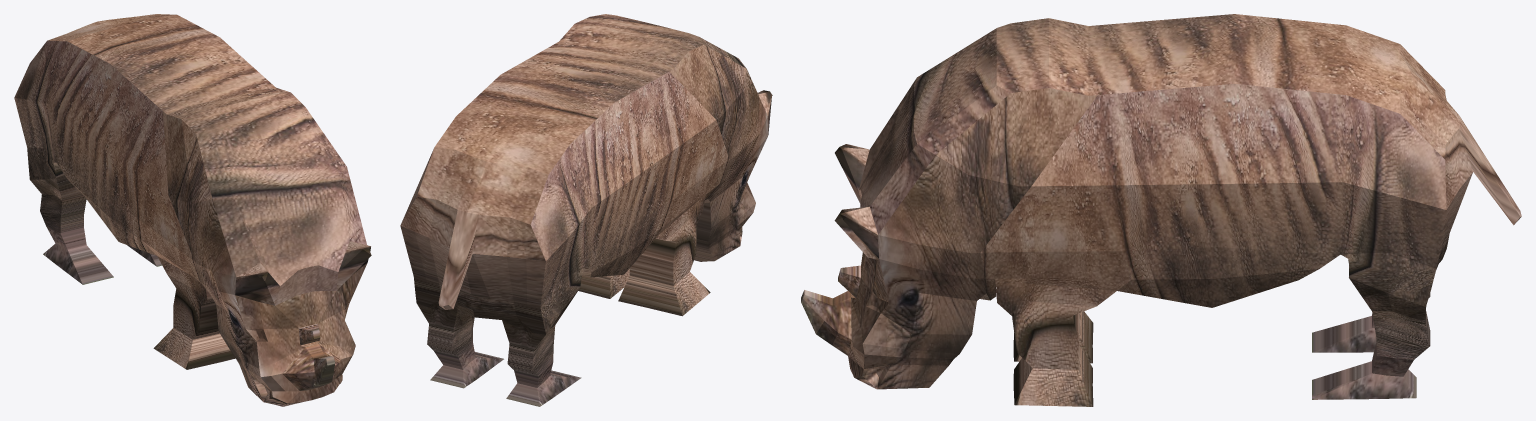
Rendered from sai.fbx.
The picture shows the model from 3 angles, left to right: view 1: azimuth 30°, elevation 25°; view 2: azimuth 150°, elevation 25°; view 3: azimuth 270°, elevation 25°; orthographic projection. The views are drawn at different scales.
Visible parts, largest first — view 1: 立方体; view 2: 立方体; view 3: 立方体.
Part boxes in pixels (x1=…): 立方体: x1=14, y1=14, x2=371, y2=406; 立方体: x1=400, y1=14, x2=772, y2=406; 立方体: x1=801, y1=14, x2=1521, y2=406.
Size of the model in its own units: 118 by 191 by 378.
1 material, 1 textured.
